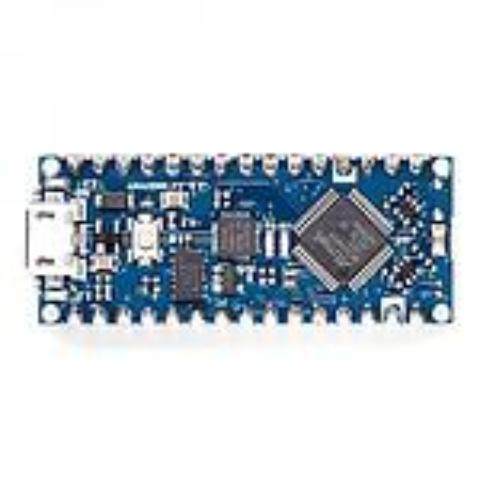Arduino-Nano: (21, 146, 463, 342)
